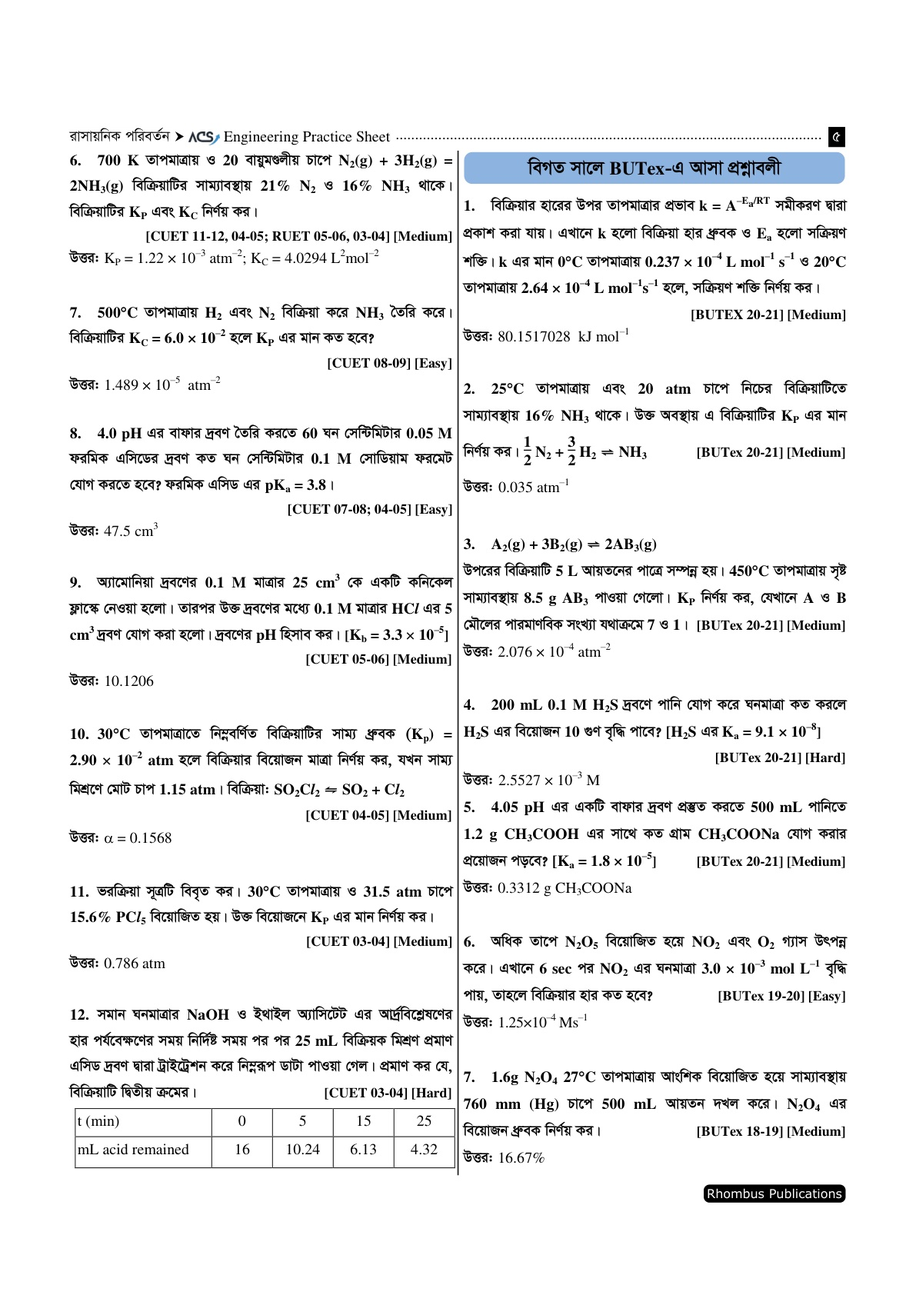question: (65, 1005, 456, 1174), (459, 192, 855, 301), (460, 530, 853, 637), (459, 376, 855, 474), (65, 721, 456, 804), (460, 929, 855, 1010), (460, 795, 854, 875), (63, 421, 455, 500), (461, 1065, 855, 1143), (63, 570, 455, 648), (64, 147, 454, 225), (65, 870, 456, 928), (460, 692, 855, 749), (63, 300, 455, 351)
